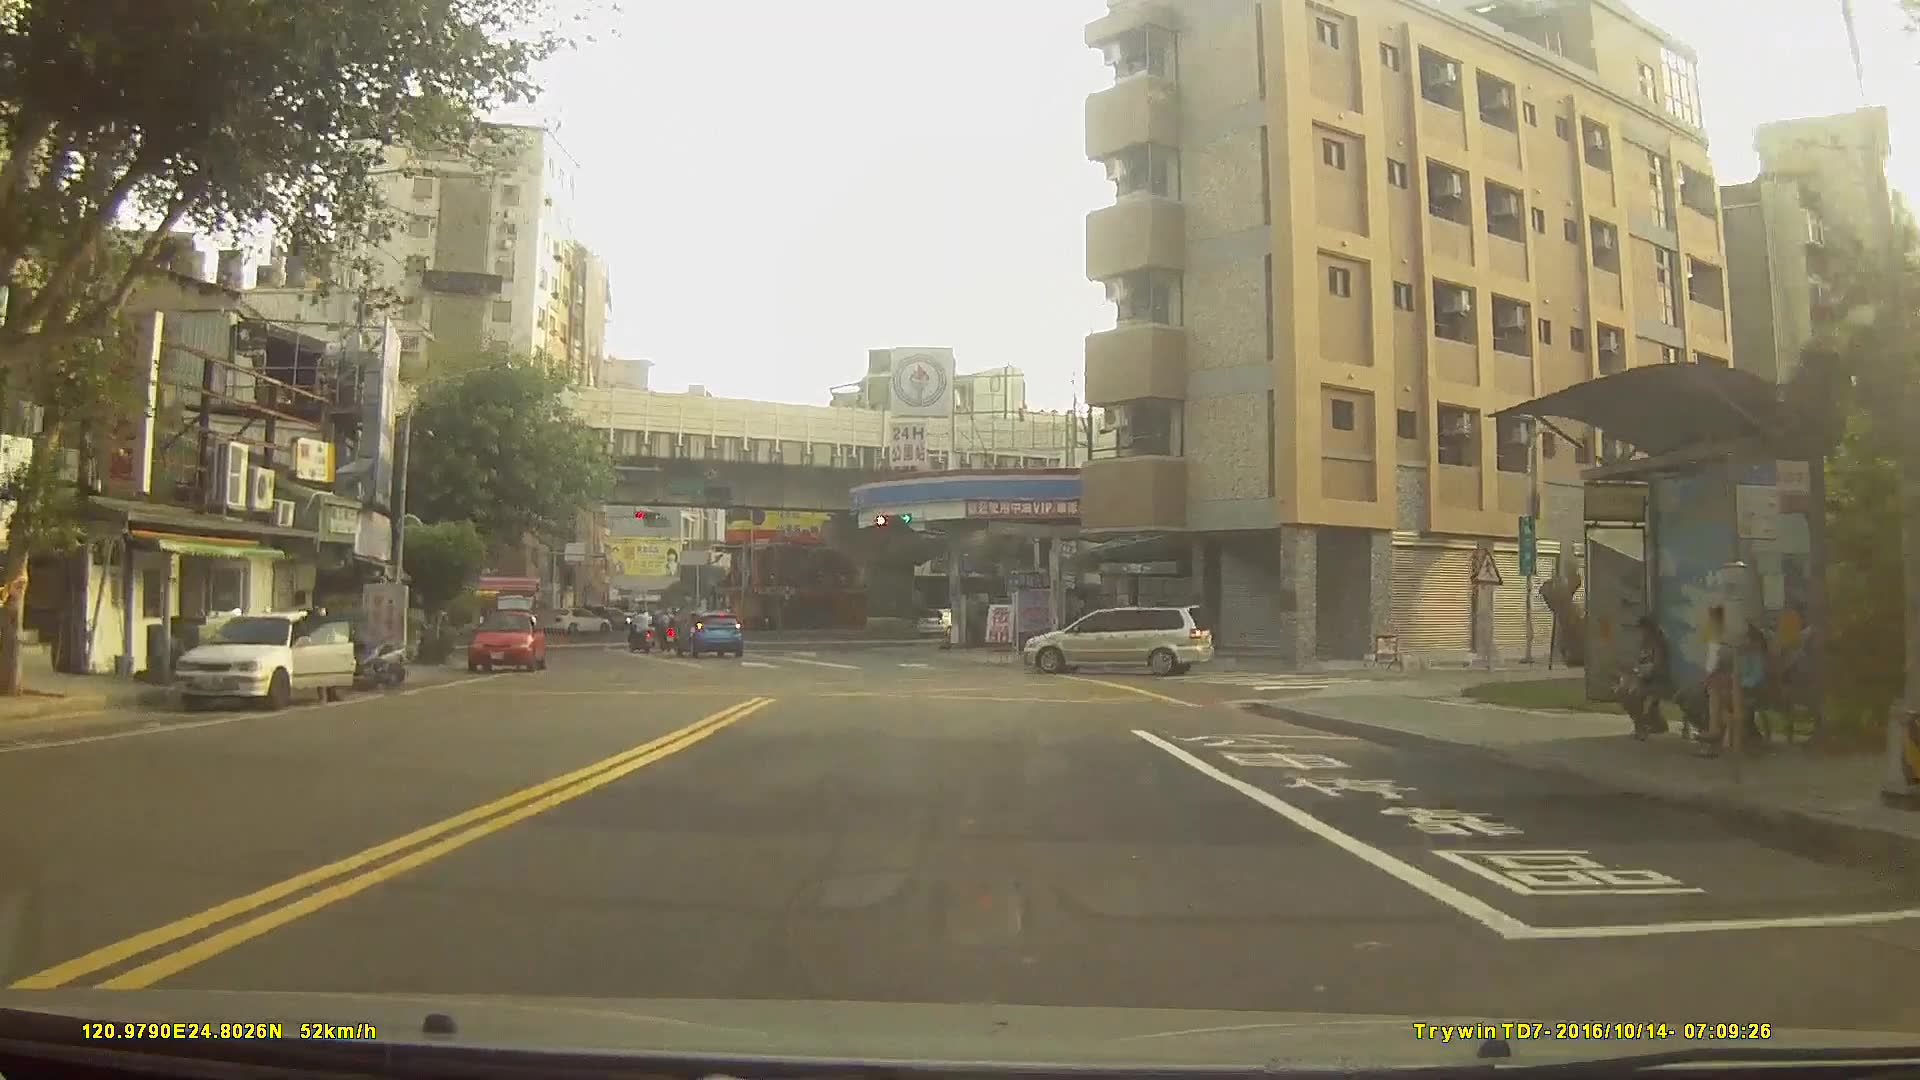pedestrian: (1612, 618, 1676, 741)
rider: (625, 607, 656, 657)
vehicle: (175, 606, 353, 710), (1020, 604, 1216, 673), (467, 609, 548, 671), (670, 609, 745, 656), (543, 605, 611, 635), (547, 604, 610, 635), (912, 606, 963, 637)
